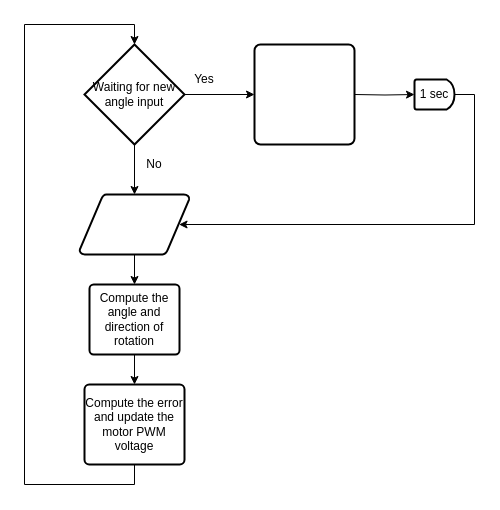
This 500x510 diagram has some shape labels left out. Each missing label, with the centre of its shape:
"Read the potemtiometer value" belongs at pixel 134 224.
"Stop the motor" belongs at pixel 304 94.
